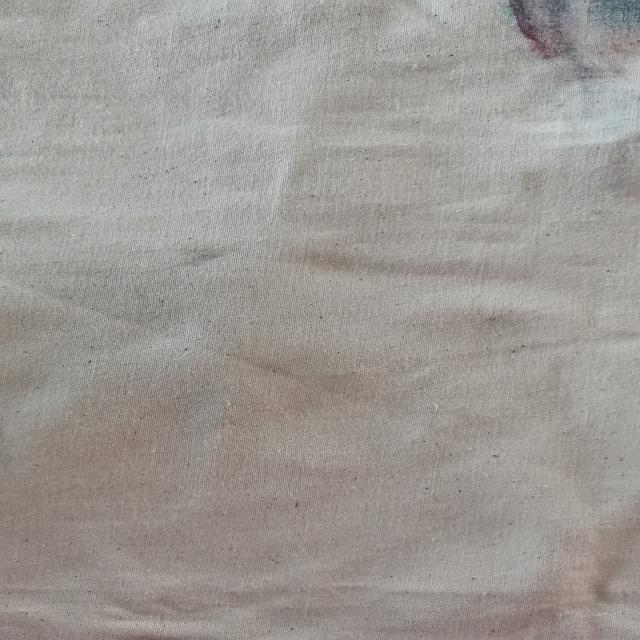taaaches: (492, 3, 636, 96), (174, 238, 253, 278)
